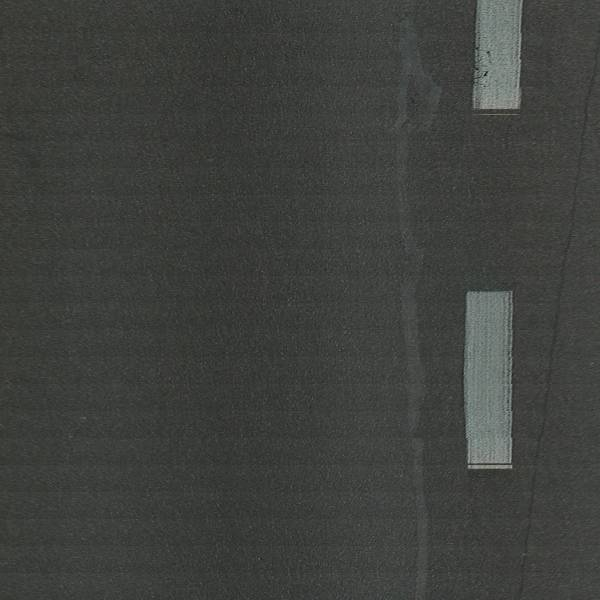road_damage: (390, 16, 444, 168)
